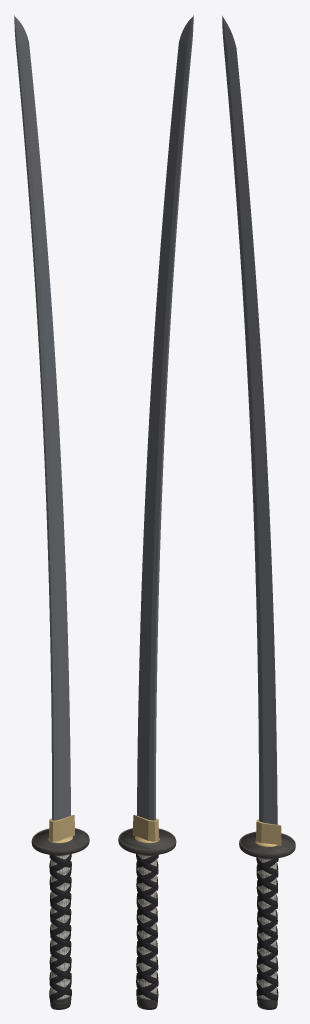
File: katana.glb
The picture shows the model from 3 angles, left to right: view 1: azimuth 30°, elevation 25°; view 2: azimuth 150°, elevation 25°; view 3: azimuth 330°, elevation 25°; orthographic projection. The views are drawn at different scales.
Parts seen in each view (by area): view 1: Katana; view 2: Katana; view 3: Katana.
Part boxes in pixels (x1,y1,x2,y2): Katana: (14, 15, 89, 1009); Katana: (118, 15, 193, 1009); Katana: (222, 15, 295, 1009).
Size of the model in its own units: 0.1202 by 1.6 by 0.0778.
7 materials, 6 textured.
